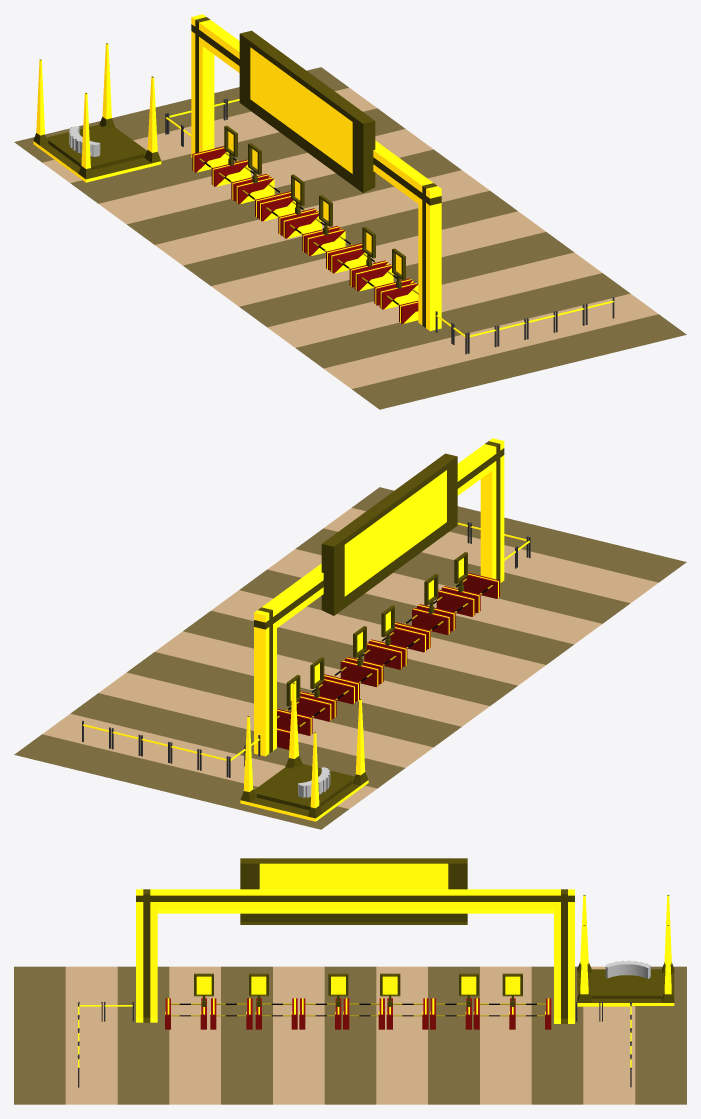
File: Entrance2.fbx
3 views of the same model, one above another, from view 1: azimuth 30°, elevation 25°; view 2: azimuth 150°, elevation 25°; view 3: azimuth 270°, elevation 25° (orthographic). The views are drawn at different scales.
Visible parts, largest first — view 1: Plane.011, Cube.115, Cube.172, Cube.136, Cube.143, Cube.141, Cube.153, Cube.147, Cube.149, Cube.155, Cube.145, Cube.156 (+1 smaller); view 2: Plane.011, Cube.115, Cube.172, Cube.116, Cube.142, Cube.150, Cube.144, Cube.148, Cube.154, Cube.146, Cube.152, Cube.140; view 3: Plane.011, Cube.115, Cube.172, Cube.173, Cube.166, Cube.168, Cube.169, Cube.170, Cube.171, Cube.167, Cube.136.
Boxes of the visible parts, box(x1,y1,x2,y2) form: Plane.011: box(14, 67, 686, 409); Cube.115: box(191, 14, 441, 331); Cube.172: box(33, 43, 161, 182); Cube.136: box(435, 297, 614, 354); Cube.143: box(354, 264, 393, 291); Cube.141: box(379, 282, 418, 309); Cube.153: box(235, 177, 274, 204); Cube.147: box(306, 229, 345, 255); Cube.149: box(282, 211, 321, 238); Cube.155: box(211, 159, 250, 186); Cube.145: box(330, 247, 367, 273); Cube.156: box(192, 146, 229, 172); Plane.011: box(14, 487, 686, 829); Cube.115: box(254, 438, 504, 756); Cube.172: box(240, 682, 368, 821); Cube.116: box(82, 720, 260, 777); Cube.142: box(436, 589, 475, 616); Cube.150: box(340, 660, 379, 687); Cube.144: box(412, 607, 450, 634); Cube.148: box(364, 642, 402, 669); Cube.154: box(296, 695, 332, 721); Cube.146: box(390, 626, 426, 652); Cube.152: box(319, 678, 355, 704); Cube.140: box(463, 572, 499, 598); Plane.011: box(14, 966, 686, 1104); Cube.115: box(136, 858, 574, 1023); Cube.172: box(577, 895, 674, 1005); Cube.173: box(605, 960, 650, 978); Cube.166: box(502, 973, 522, 1006); Cube.168: box(380, 973, 400, 1006); Cube.169: box(328, 973, 348, 1006); Cube.170: box(249, 973, 268, 1006); Cube.171: box(194, 973, 213, 1006); Cube.167: box(459, 973, 478, 1006); Cube.136: box(77, 1001, 134, 1087).
Bounding box in the file's own units: 9590 × 5097 × 19770.
